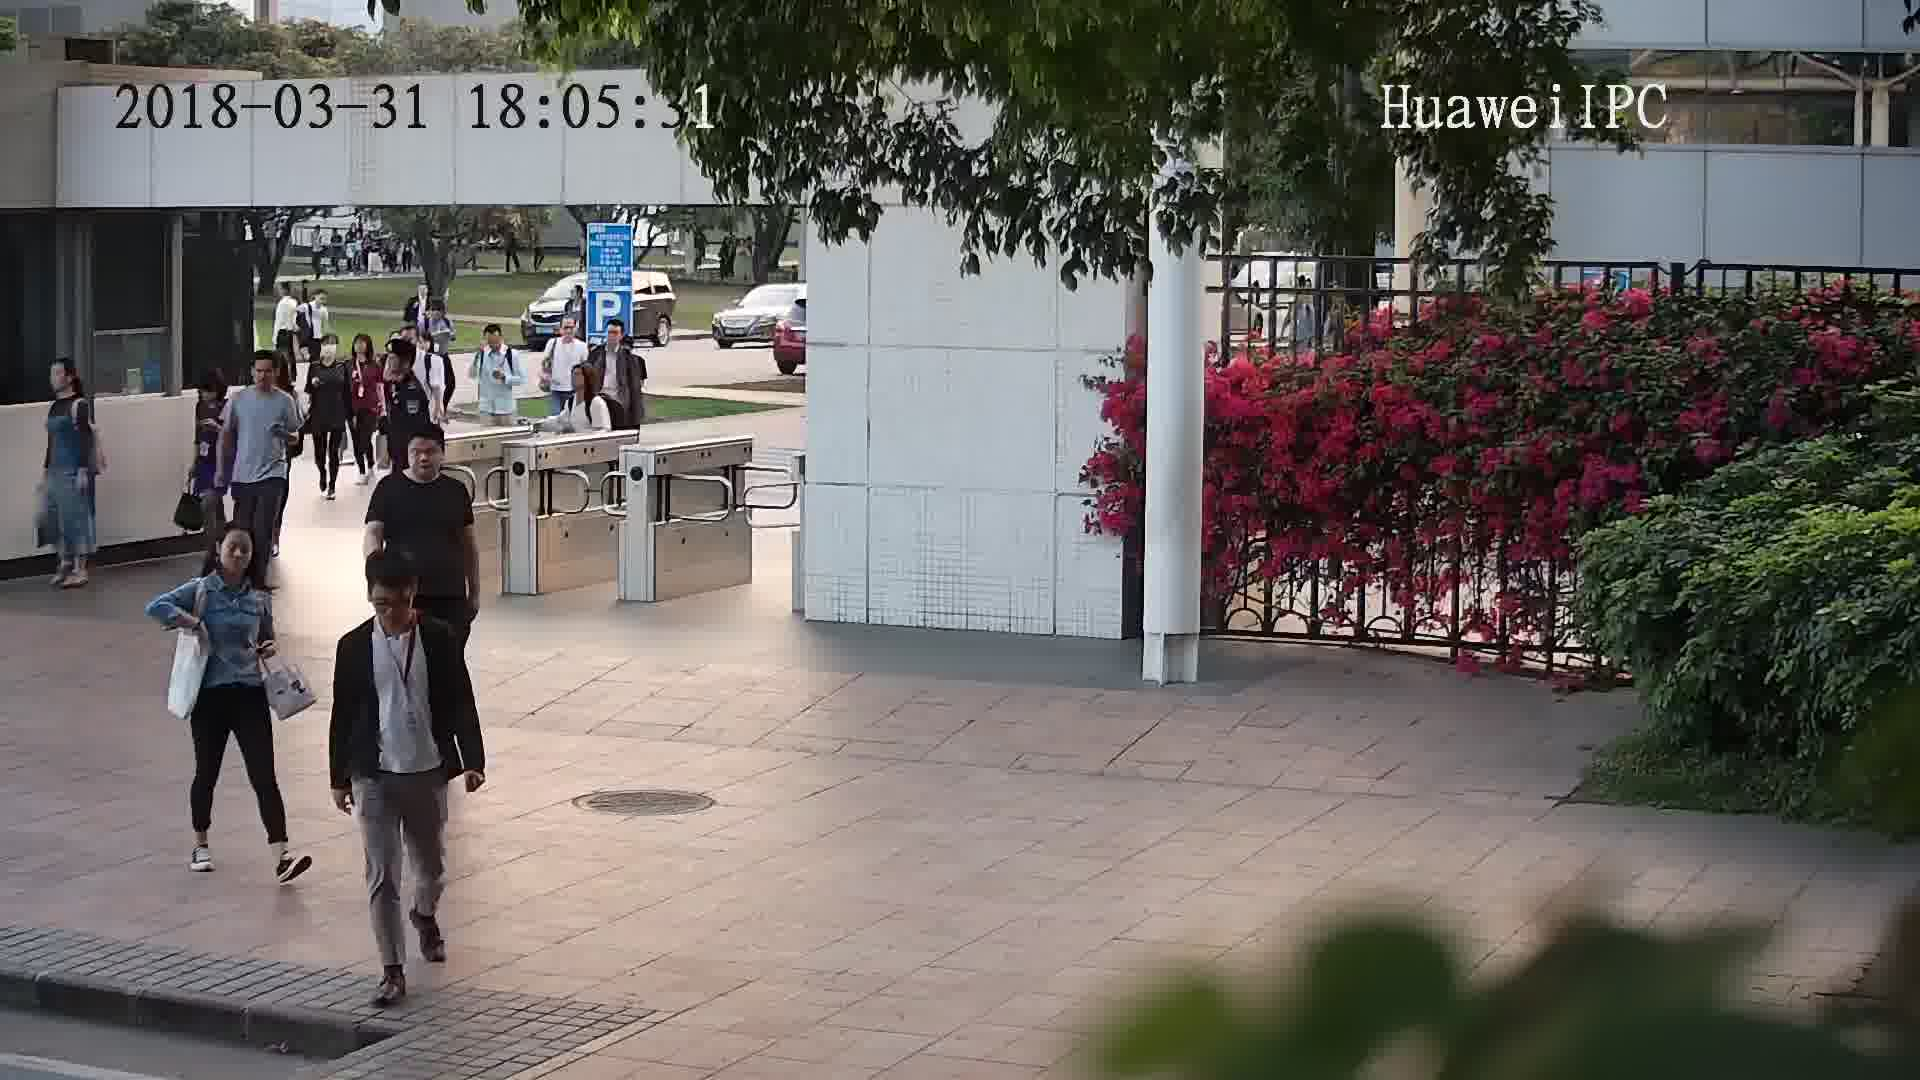face: (367, 584, 416, 633), (216, 526, 254, 580), (403, 438, 445, 482)
person: (337, 547, 454, 661), (374, 423, 472, 506), (189, 522, 278, 612), (234, 349, 295, 410), (44, 352, 94, 422), (380, 335, 428, 390), (193, 361, 235, 416), (564, 362, 610, 410), (305, 332, 349, 380), (474, 321, 518, 366), (596, 317, 641, 361), (344, 329, 384, 370), (544, 315, 590, 352), (425, 296, 457, 330), (402, 280, 437, 307), (275, 275, 302, 311), (565, 283, 593, 313), (307, 283, 335, 313)
